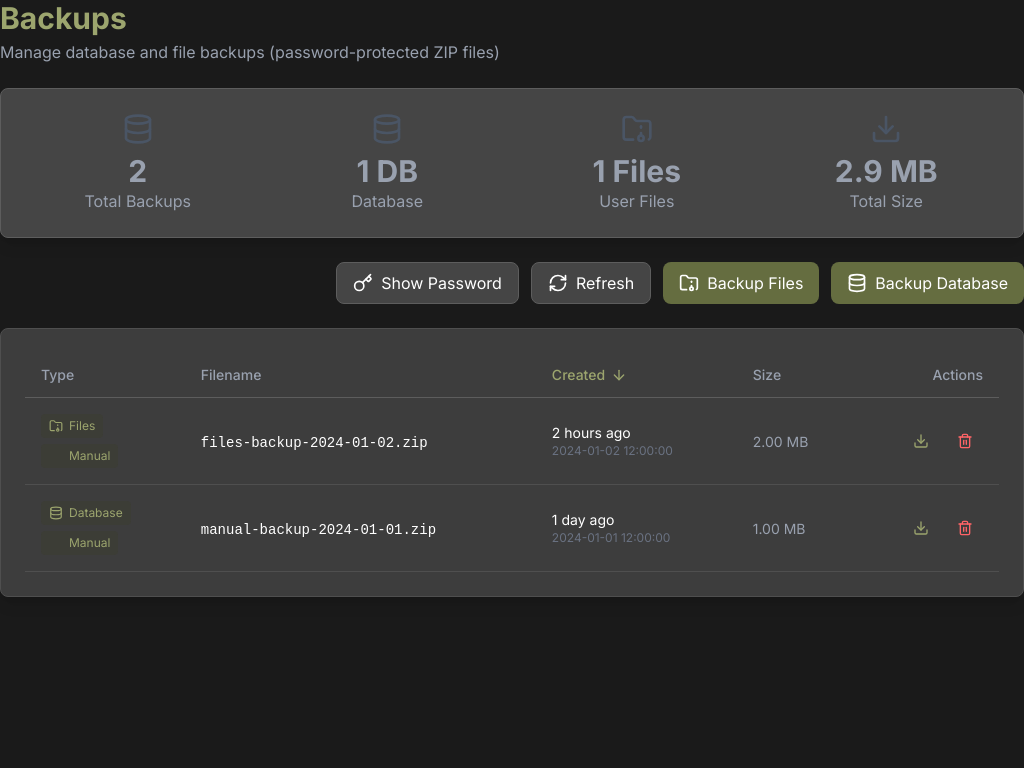
Scenario: BackupsManagement › Deleting backups › should show delete confirmation modal
Expected: the text "manual-backup-2024-01-01.zip" is shown, [201, 522, 436, 538]
Step 1. Click the button titled "Delete backup" in the row of "files-backup-2024-01-02.zip" → click(965, 441), box [947, 423, 983, 459]
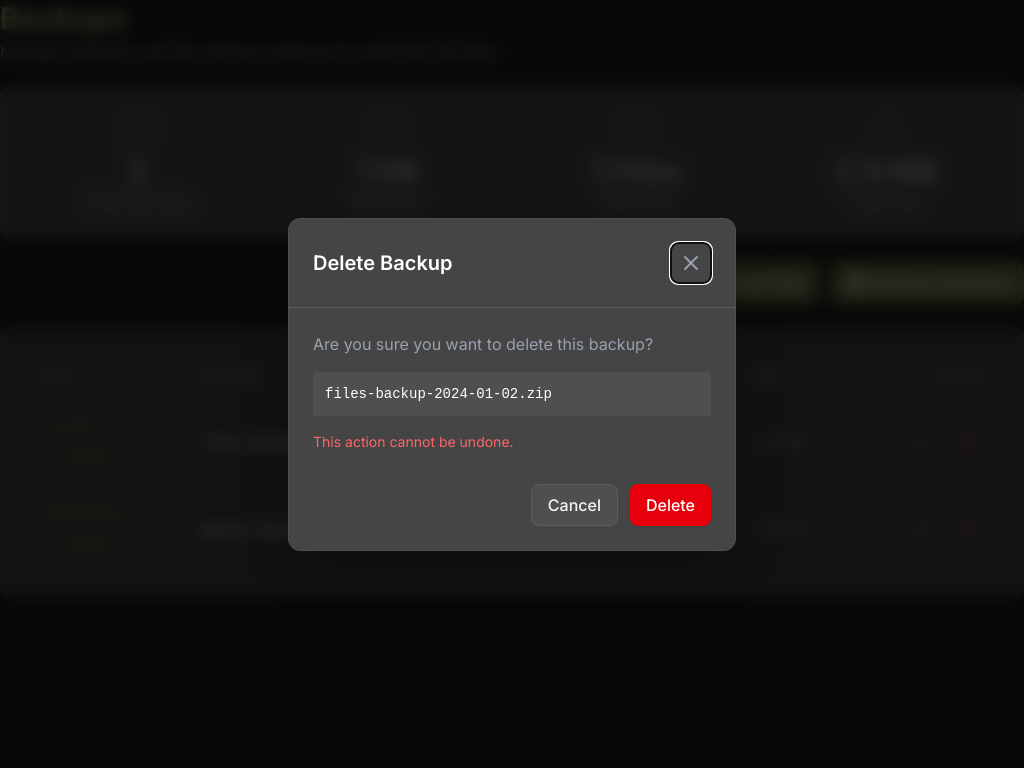
Result: the heading "Delete Backup" is shown at [313, 248, 452, 276]
Result: the text "Are you sure you want to delete this backup?" is shown at [313, 332, 711, 356]
